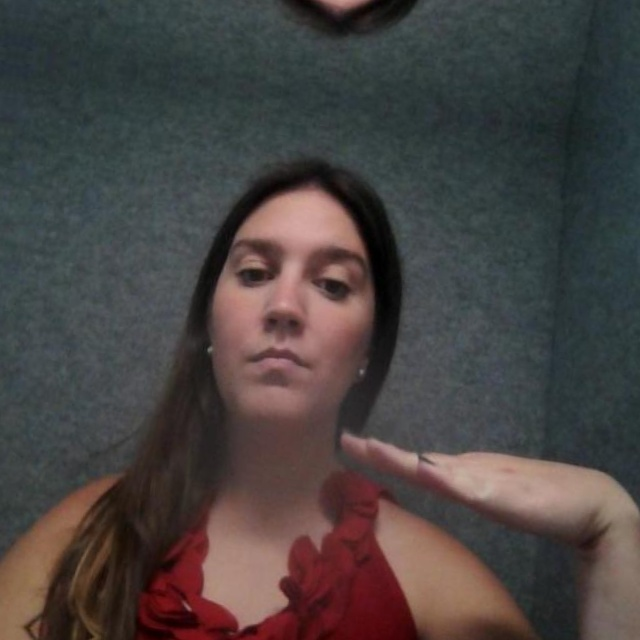Paper: (331, 397, 632, 582)
